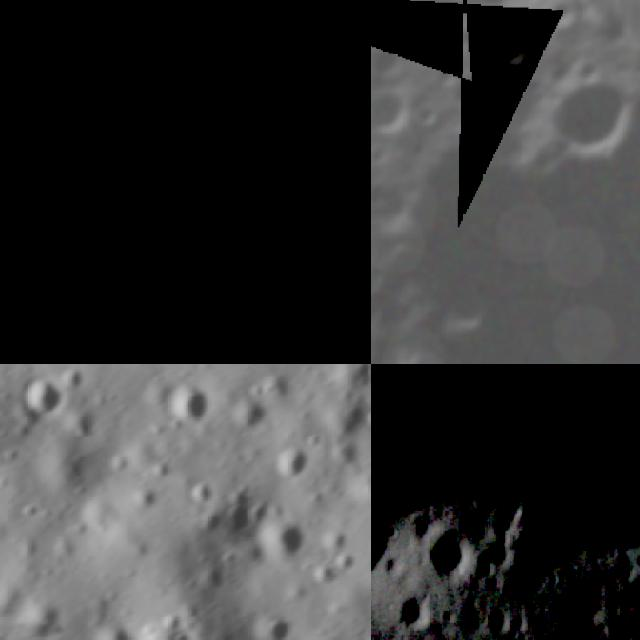crater: (121, 12, 252, 193), (521, 54, 640, 183), (371, 472, 424, 609), (481, 12, 553, 83), (0, 0, 65, 72), (371, 71, 425, 146), (251, 506, 312, 568), (425, 525, 483, 588), (15, 366, 77, 424), (167, 325, 246, 364), (174, 470, 232, 523), (161, 374, 217, 428), (239, 275, 286, 330), (328, 89, 371, 149), (242, 597, 301, 640), (226, 379, 275, 428), (287, 202, 336, 248), (210, 121, 252, 173), (271, 441, 322, 483), (565, 47, 609, 92), (397, 583, 434, 636), (371, 119, 390, 208), (85, 611, 143, 640), (409, 93, 450, 134), (599, 549, 640, 589), (314, 512, 352, 550), (310, 560, 348, 598), (453, 0, 533, 18), (506, 602, 541, 640), (482, 602, 514, 640), (351, 466, 371, 512), (371, 198, 384, 257), (330, 552, 357, 575), (293, 348, 330, 364), (371, 611, 377, 640)
